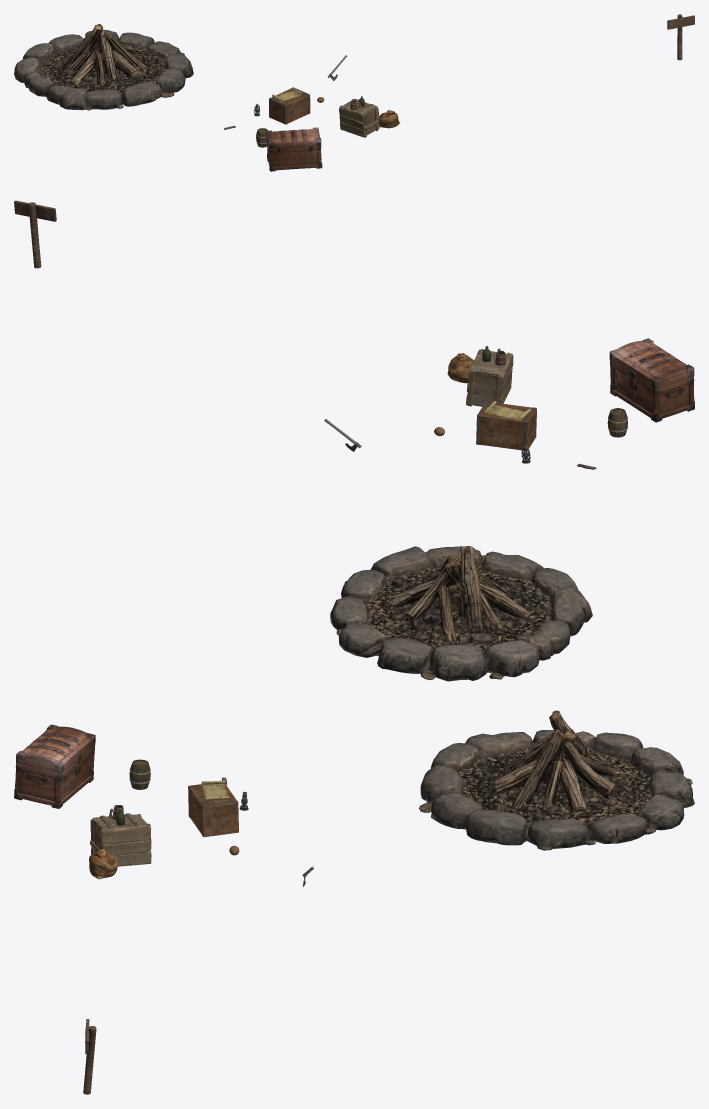
The model's file is beach_loot.glb.
3 views of the same model, one above another, from view 1: azimuth 30°, elevation 25°; view 2: azimuth 150°, elevation 25°; view 3: azimuth 270°, elevation 25° (orthographic). The views are drawn at different scales.
Parts seen in each view (by area): view 1: Campfire2, Mesh1_Mesh1.006_Material.001_0, SM_WoodenBox3, Wooden Crate, SM_Wooden_Sign_03, SM_canvas_bag4; view 2: Campfire2, Mesh1_Mesh1.006_Material.001_0, Wooden Crate, SM_WoodenBox3, SM_Wooden_Sign_03; view 3: Campfire2, Mesh1_Mesh1.006_Material.001_0, SM_WoodenBox3, Wooden Crate, SM_canvas_bag4, SM_Wooden_Sign_03.
Part boxes in pixels (x1,y1,x2,y2): Campfire2: (14, 24, 193, 110); Mesh1_Mesh1.006_Material.001_0: (266, 127, 322, 171); SM_WoodenBox3: (339, 98, 379, 137); Wooden Crate: (269, 87, 310, 124); SM_Wooden_Sign_03: (667, 14, 694, 60); SM_canvas_bag4: (379, 110, 400, 128); Campfire2: (330, 546, 592, 681); Mesh1_Mesh1.006_Material.001_0: (609, 338, 694, 422); Wooden Crate: (476, 401, 536, 450); SM_WoodenBox3: (466, 349, 513, 406); SM_Wooden_Sign_03: (14, 200, 56, 268); Campfire2: (419, 710, 694, 850); Mesh1_Mesh1.006_Material.001_0: (14, 724, 95, 808); SM_WoodenBox3: (90, 813, 151, 866); Wooden Crate: (188, 784, 238, 837); SM_canvas_bag4: (89, 849, 118, 879); SM_Wooden_Sign_03: (83, 1019, 96, 1094).
Bounding box in the file's own units: 14.25 × 1.75 × 10.4.
16 materials, 16 textured.
